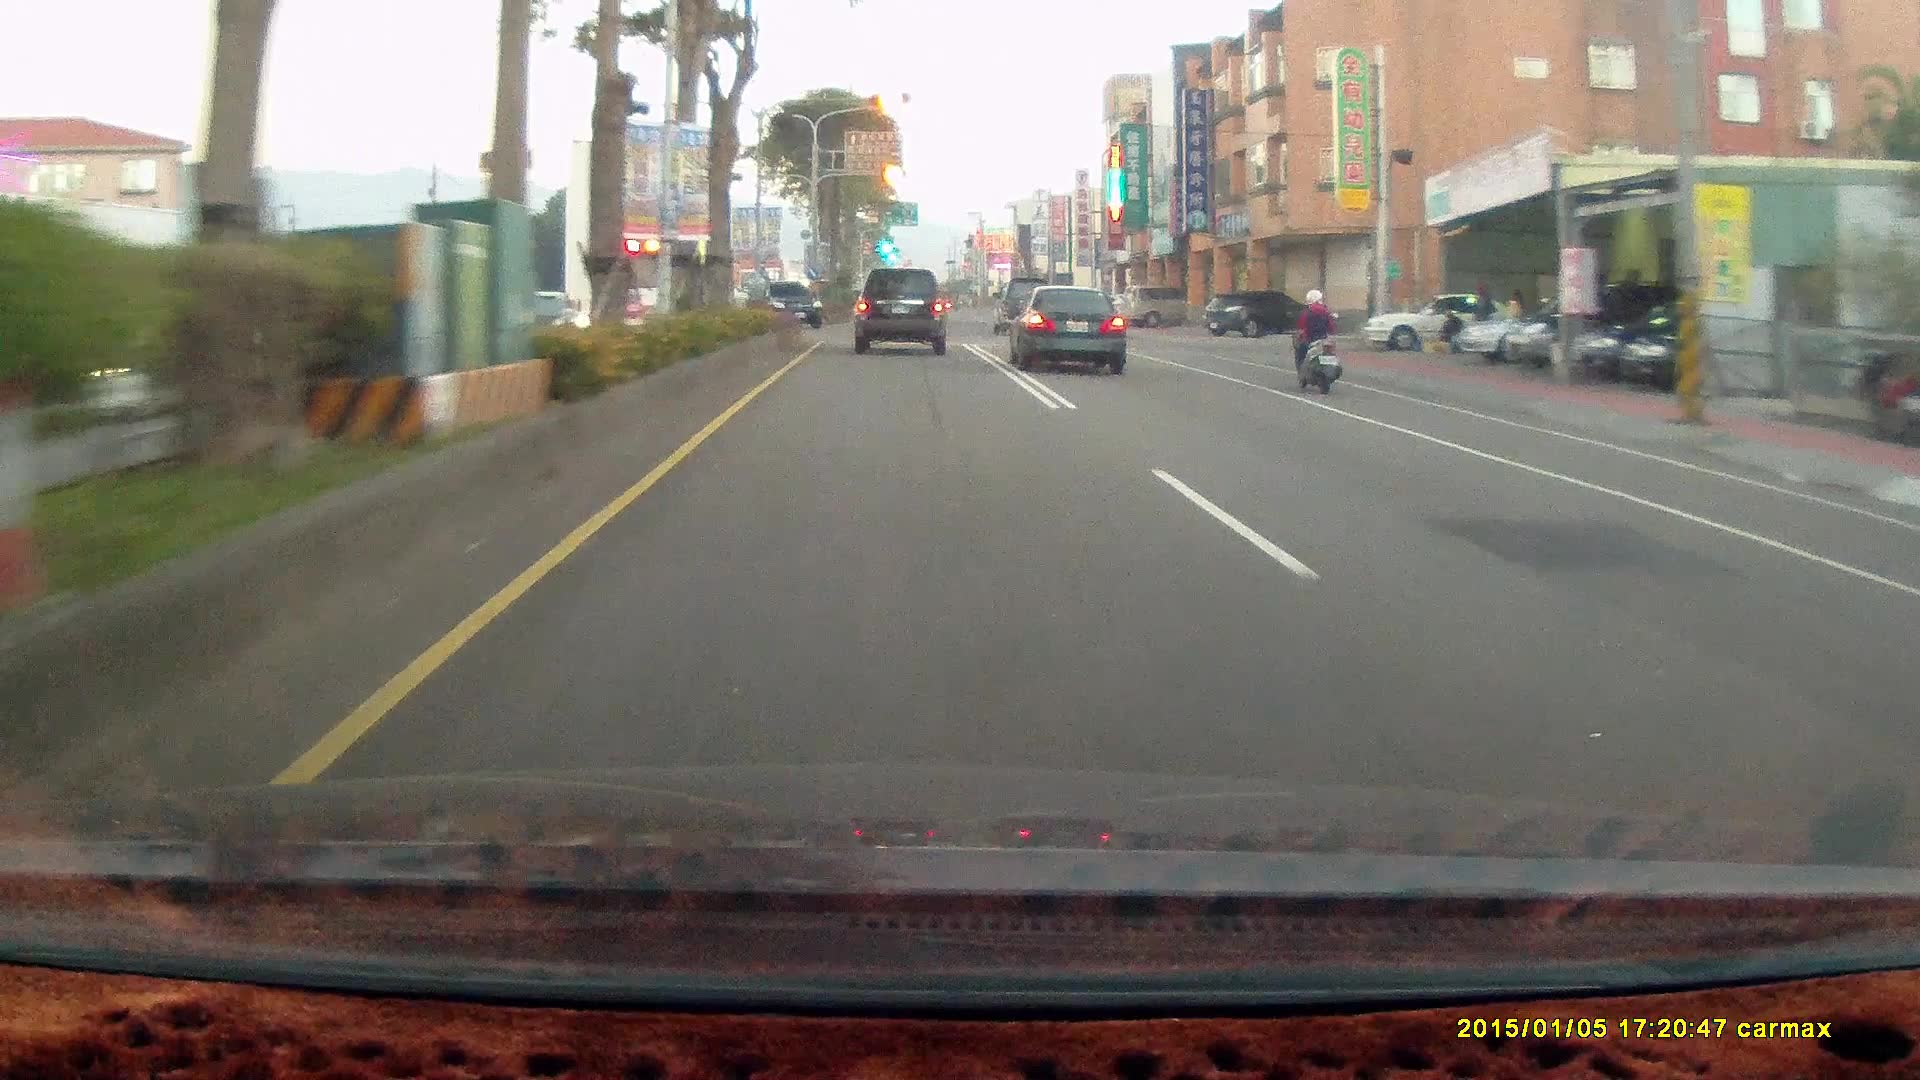pedestrian: (1472, 283, 1493, 340), (1439, 308, 1465, 353)
rider: (1277, 277, 1354, 403), (1285, 288, 1343, 395)
vehicle: (1622, 301, 1819, 393), (1567, 300, 1755, 383), (1501, 285, 1670, 367), (1357, 285, 1530, 358), (607, 235, 722, 338), (1458, 296, 1622, 364), (1019, 290, 1134, 387), (1005, 283, 1126, 373), (1363, 291, 1518, 352), (854, 271, 951, 361), (852, 268, 946, 353), (1206, 292, 1316, 347), (1200, 289, 1313, 337), (748, 280, 827, 333), (1120, 283, 1207, 329), (750, 280, 825, 329), (989, 279, 1054, 334)
